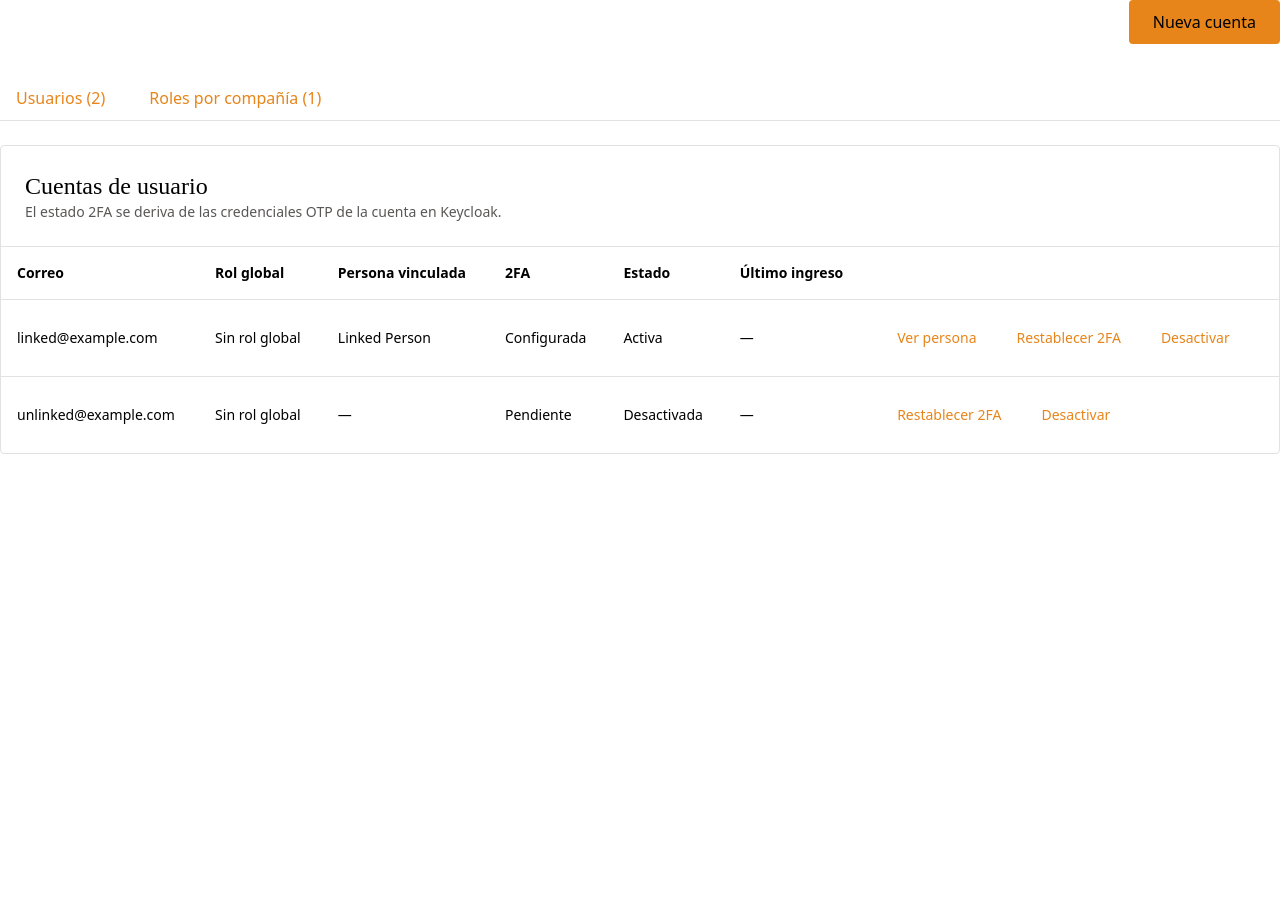
SCR-users-roles › does not let native Escape cancel a dialog while its action is pending
The image size is (1280, 900).
Click the button with test id "btn_reset_2fa" next to "Ver persona" at (1069, 338), box top-left (1001, 316), bottom-right (1137, 360)
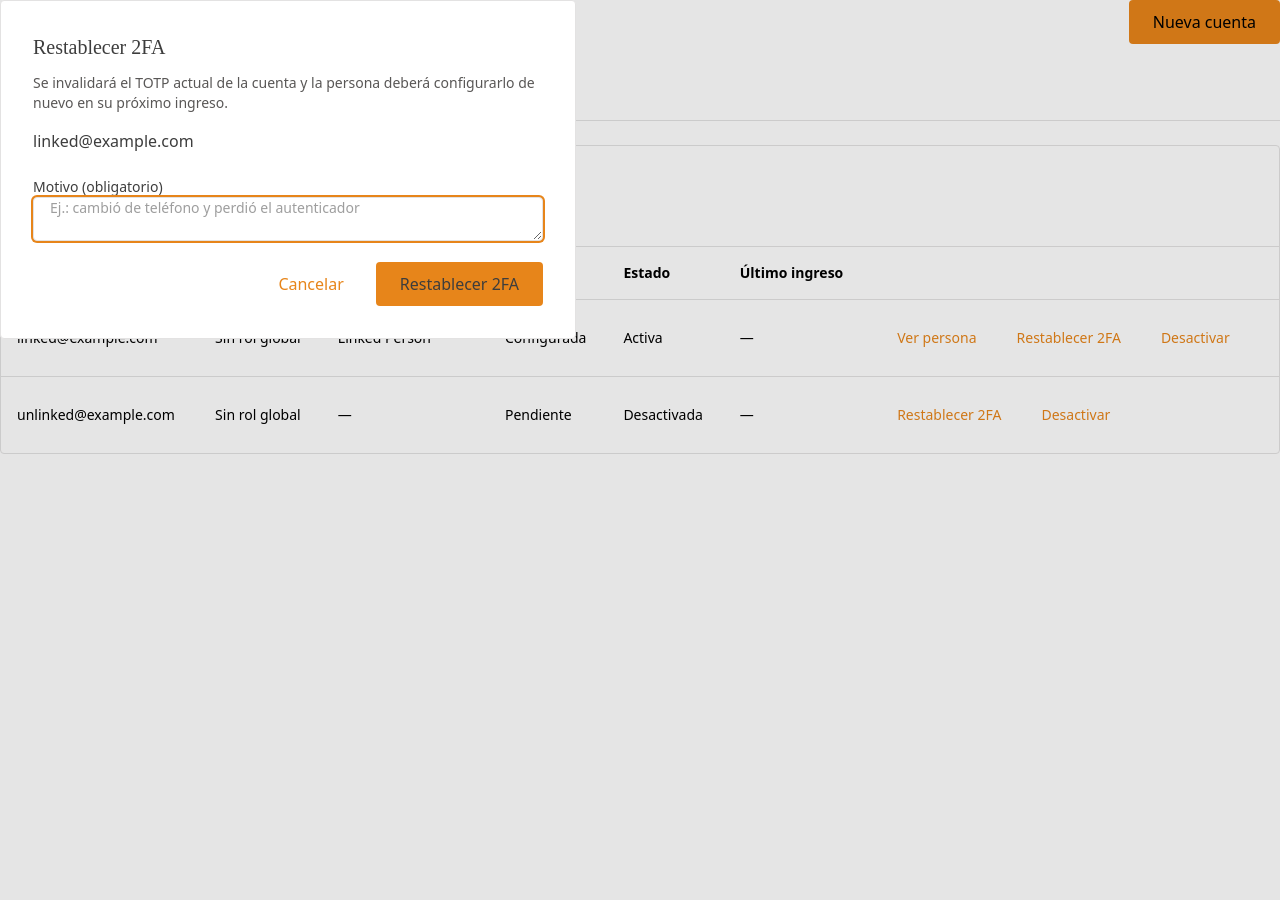
Type "Pending audit reason" into the text box with test id "reset_note" at (288, 219), box top-left (33, 197), bottom-right (543, 241)
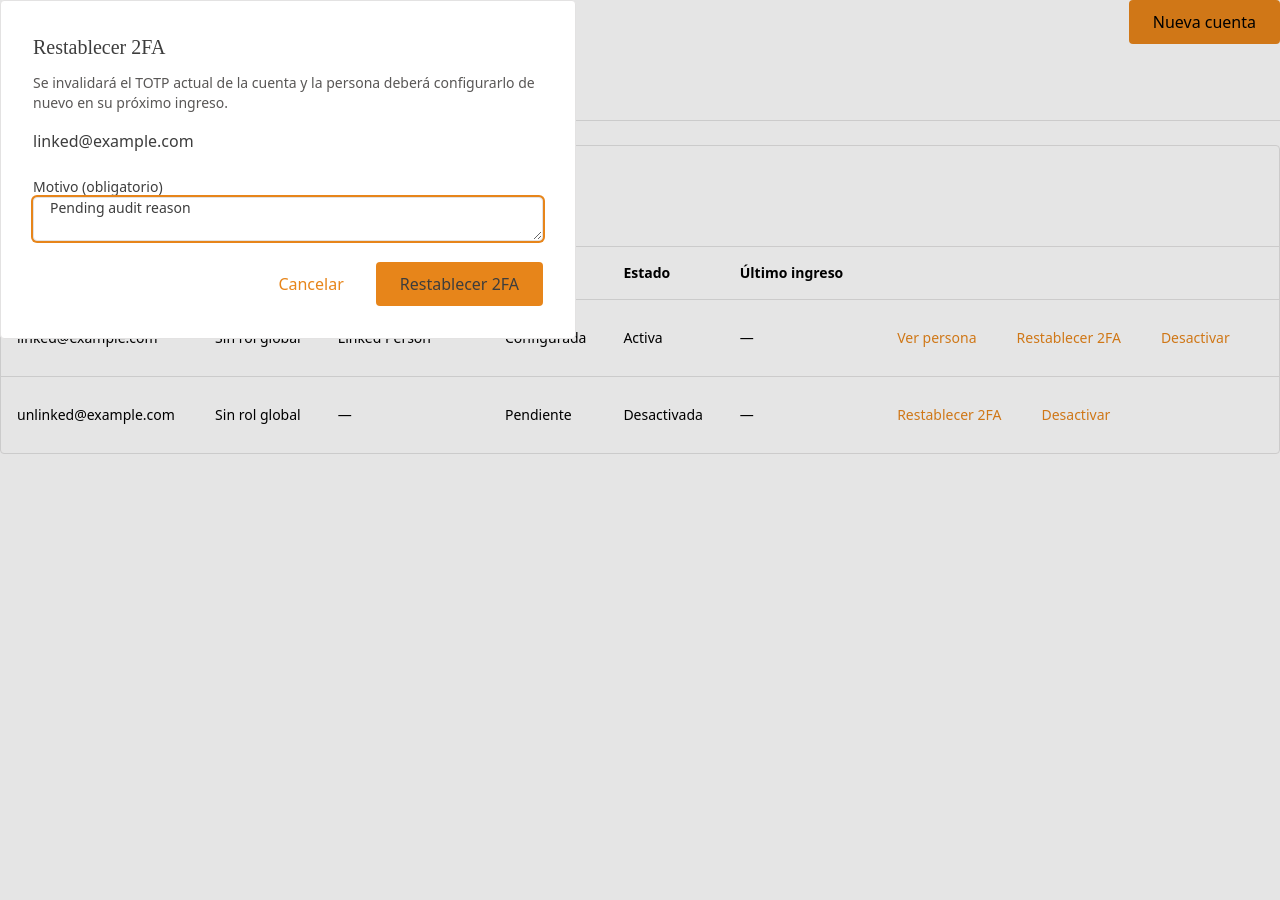
Click the button with test id "btn_confirm_reset_2fa" at (459, 284), box top-left (376, 262), bottom-right (543, 306)
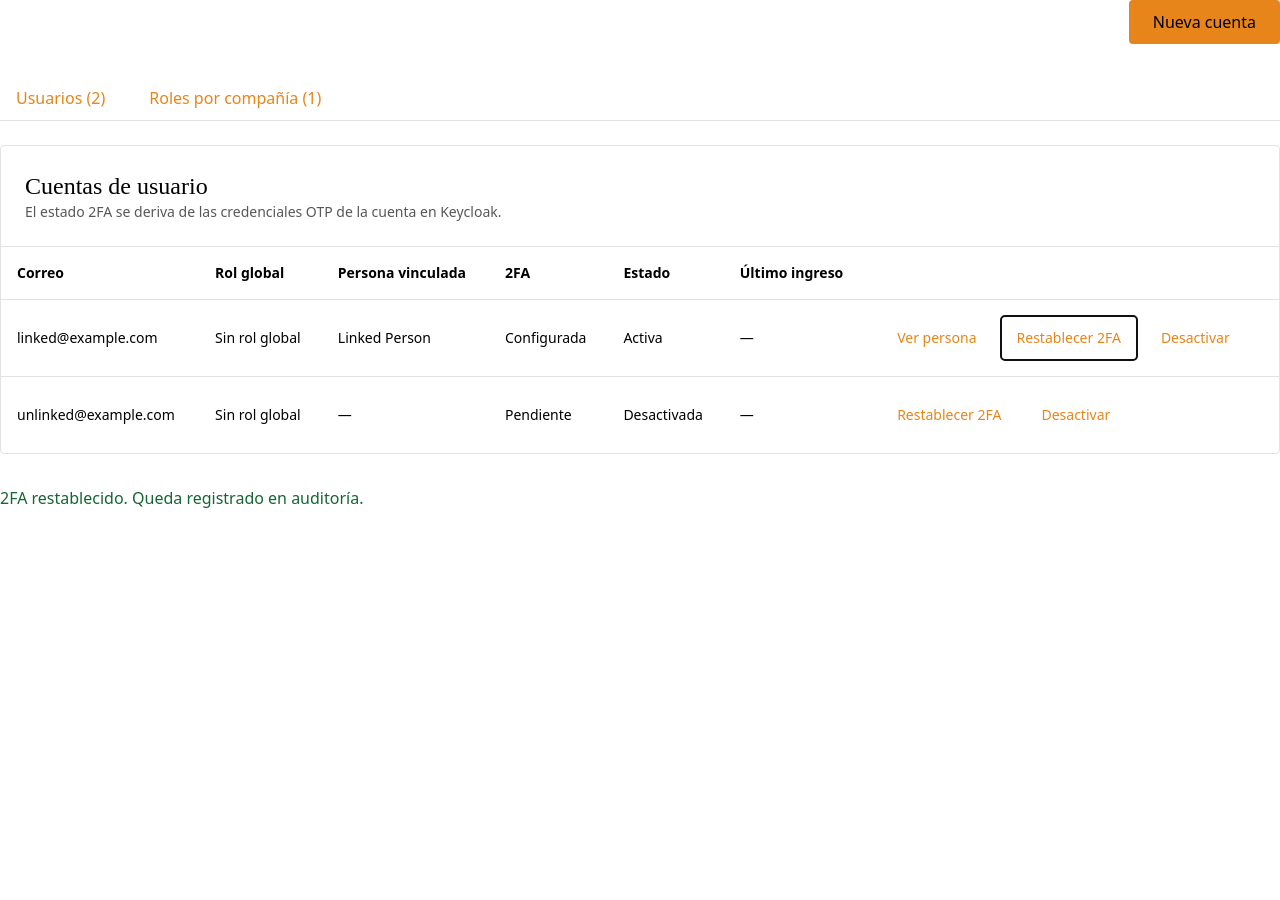
Now the dialog is gone
